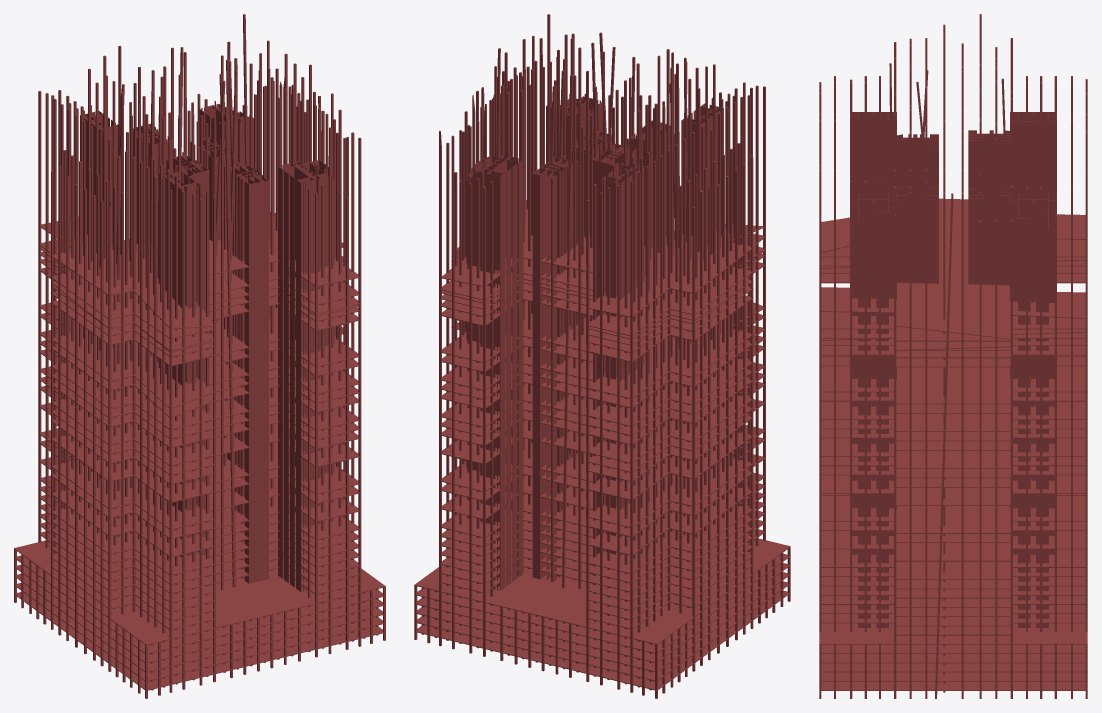
The model's file is Building_05_6.FBX.
3 renders of one model, left to right at view 1: azimuth 30°, elevation 25°; view 2: azimuth 150°, elevation 25°; view 3: azimuth 270°, elevation 25°, orthographic.
Visible parts, largest first — view 1: Building_05_6; view 2: Building_05_6; view 3: Building_05_6.
Part boxes in pixels (box(x1,y1,x2,y2)): Building_05_6: box(14, 14, 385, 698); Building_05_6: box(414, 14, 790, 698); Building_05_6: box(819, 14, 1087, 698).
Size of the model in its own units: 104605 by 239844 by 99837.
